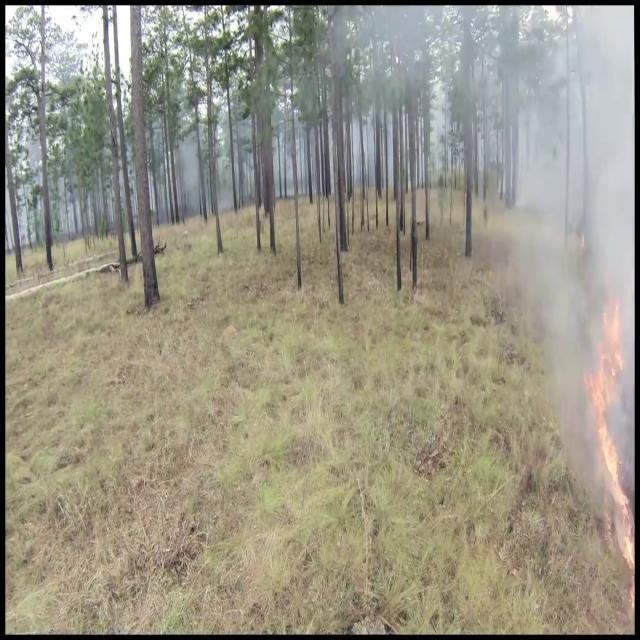Fire: (586, 287, 634, 588), (586, 295, 630, 508)
Smoke: (486, 4, 634, 521)
